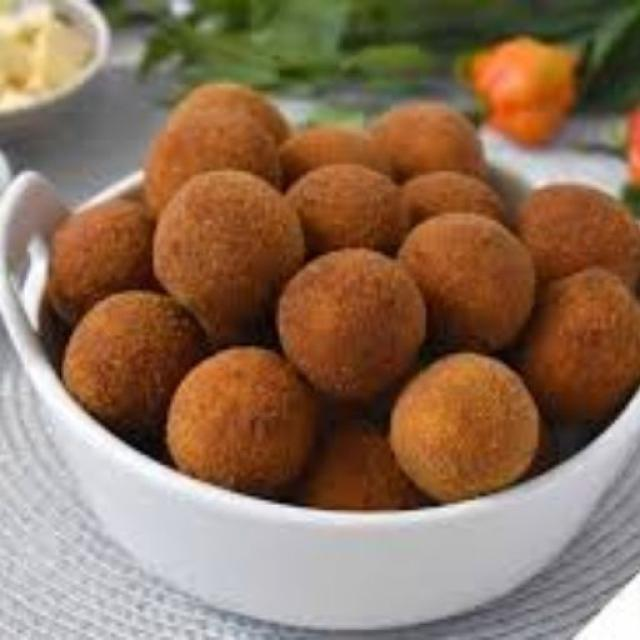Cutlet: (49, 86, 640, 486), (282, 250, 434, 406), (399, 347, 538, 487), (151, 173, 295, 308), (175, 340, 304, 482), (405, 211, 531, 340)
